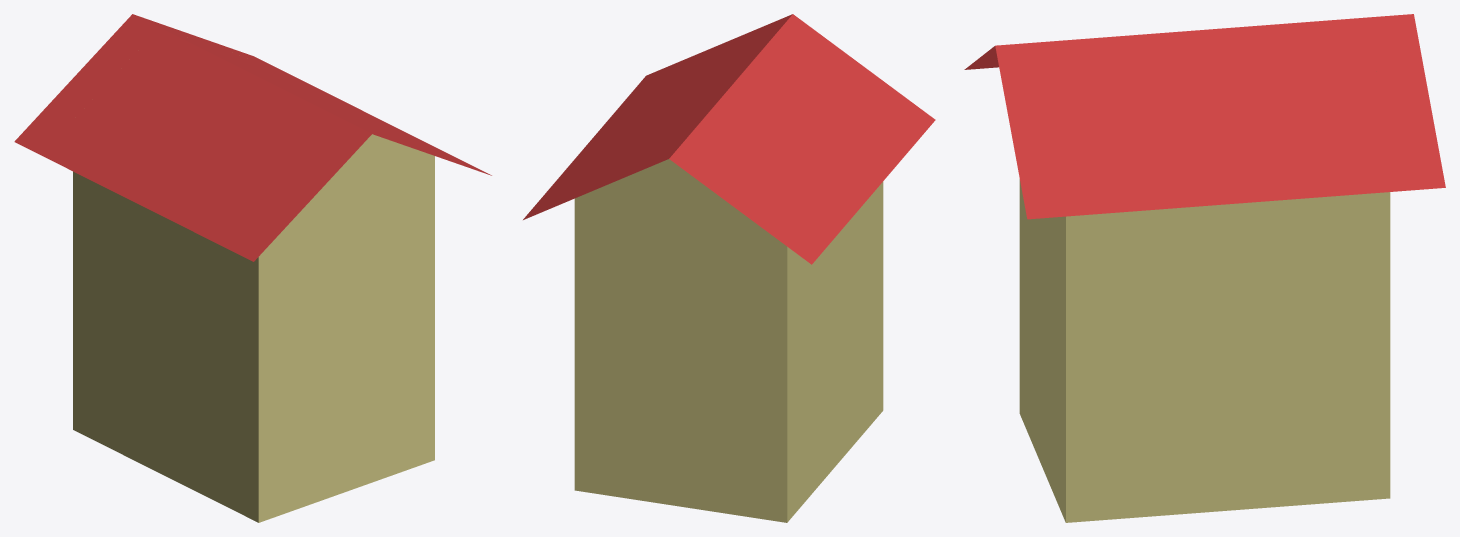
3 views of the same model, side by side, from view 1: azimuth 30°, elevation 25°; view 2: azimuth 150°, elevation 25°; view 3: azimuth 270°, elevation 25° (orthographic). The views are drawn at different scales.
Size of the model in its own units: 6.73 by 7.56 by 7.36.
